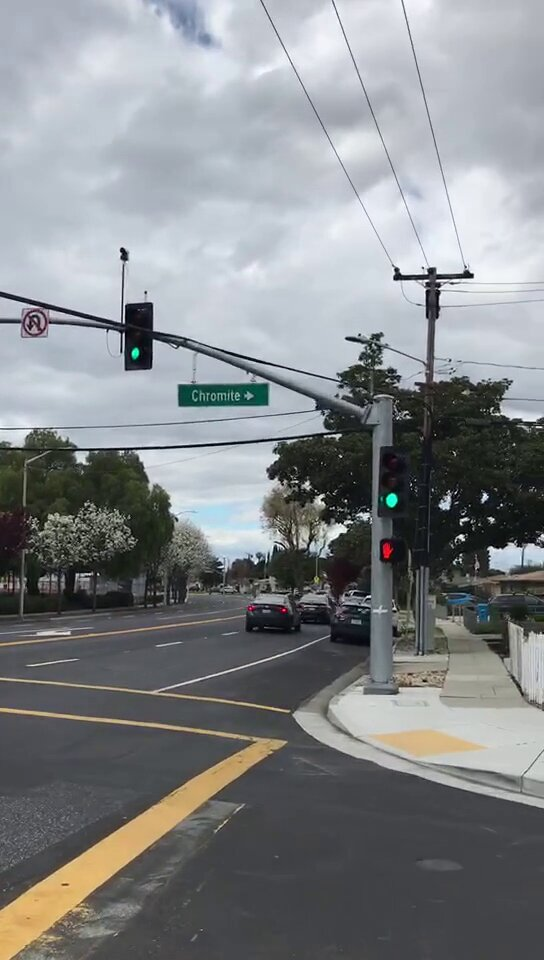green_light: (379, 449, 407, 518), (126, 305, 152, 372)
